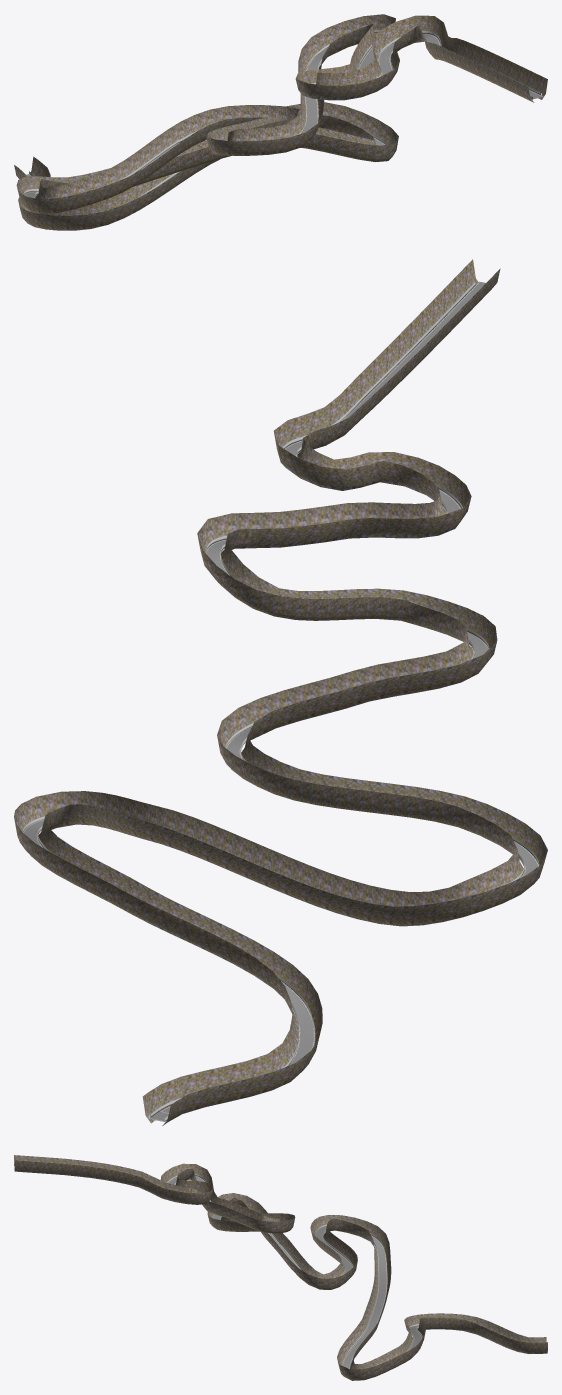
The model's file is Road_merged.fbx.
The picture shows the model from 3 angles, top to bottom: view 1: azimuth 30°, elevation 25°; view 2: azimuth 150°, elevation 25°; view 3: azimuth 270°, elevation 25°; orthographic projection. The views are drawn at different scales.
Visible parts, largest first — view 1: PM3D_Road_Mesh_Holder_002.001, PM3D_Road_Mesh_Holder, Road_Mesh_Holder_001; view 2: PM3D_Road_Mesh_Holder_002.001, PM3D_Road_Mesh_Holder, Road_Mesh_Holder_001; view 3: PM3D_Road_Mesh_Holder_002.001, PM3D_Road_Mesh_Holder, Road_Mesh_Holder_001.
Part boxes in pixels (box(x1,y1,x2,y2)): PM3D_Road_Mesh_Holder_002.001: box(14, 14, 547, 230); PM3D_Road_Mesh_Holder: box(24, 33, 542, 211); Road_Mesh_Holder_001: box(23, 30, 542, 209); PM3D_Road_Mesh_Holder_002.001: box(14, 259, 547, 1125); PM3D_Road_Mesh_Holder: box(23, 281, 538, 1121); Road_Mesh_Holder_001: box(22, 281, 539, 1121); PM3D_Road_Mesh_Holder_002.001: box(14, 1155, 547, 1380); PM3D_Road_Mesh_Holder: box(14, 1166, 422, 1368); Road_Mesh_Holder_001: box(14, 1164, 422, 1367).
Size of the model in its own units: 106621 by 92727 by 186025.
